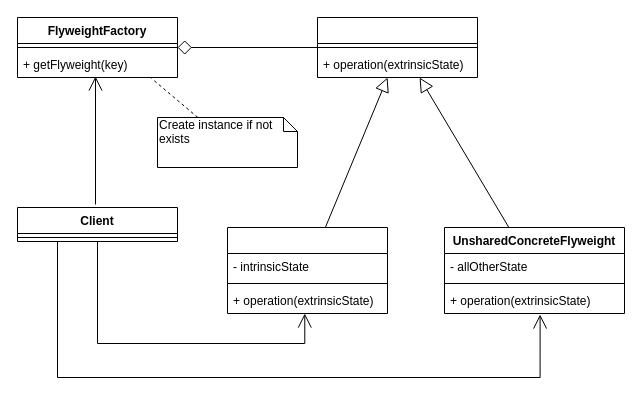
Image size: 642x409. Some labels were removed from this diagram. Each missing label, with the box of its shape:
ConcreteFlyweight: (226, 226, 388, 314)
Flyweight: (316, 16, 478, 78)
